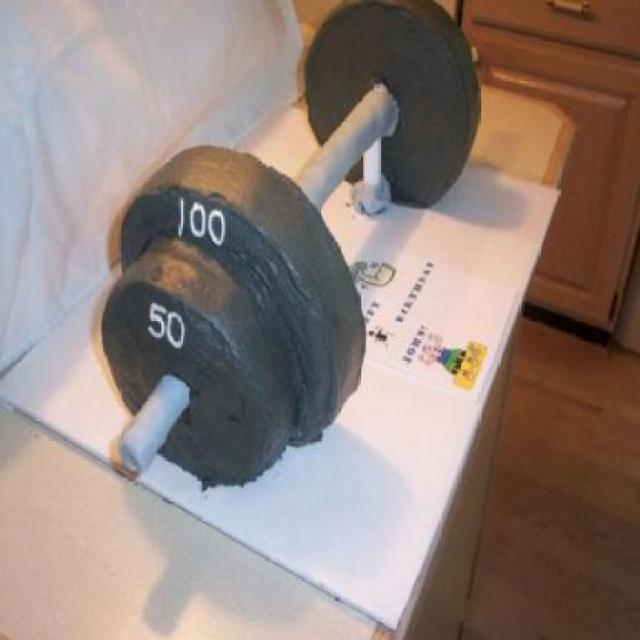Barbell: (110, 424, 152, 488)
